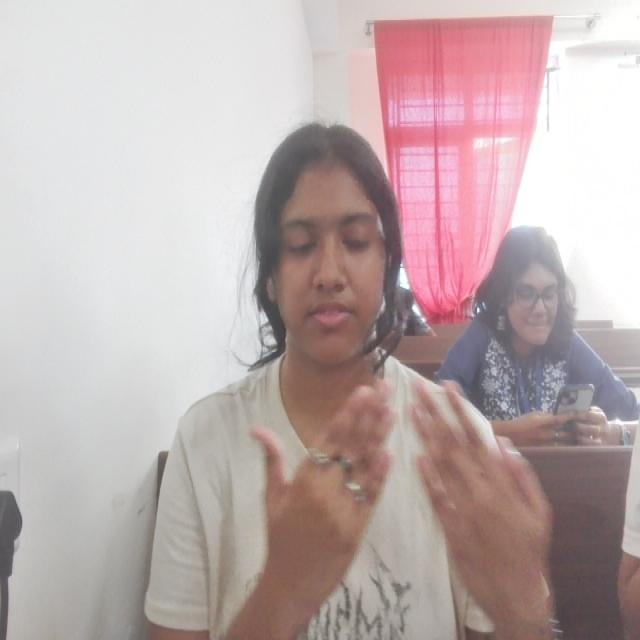thankyou: (246, 374, 557, 616)
